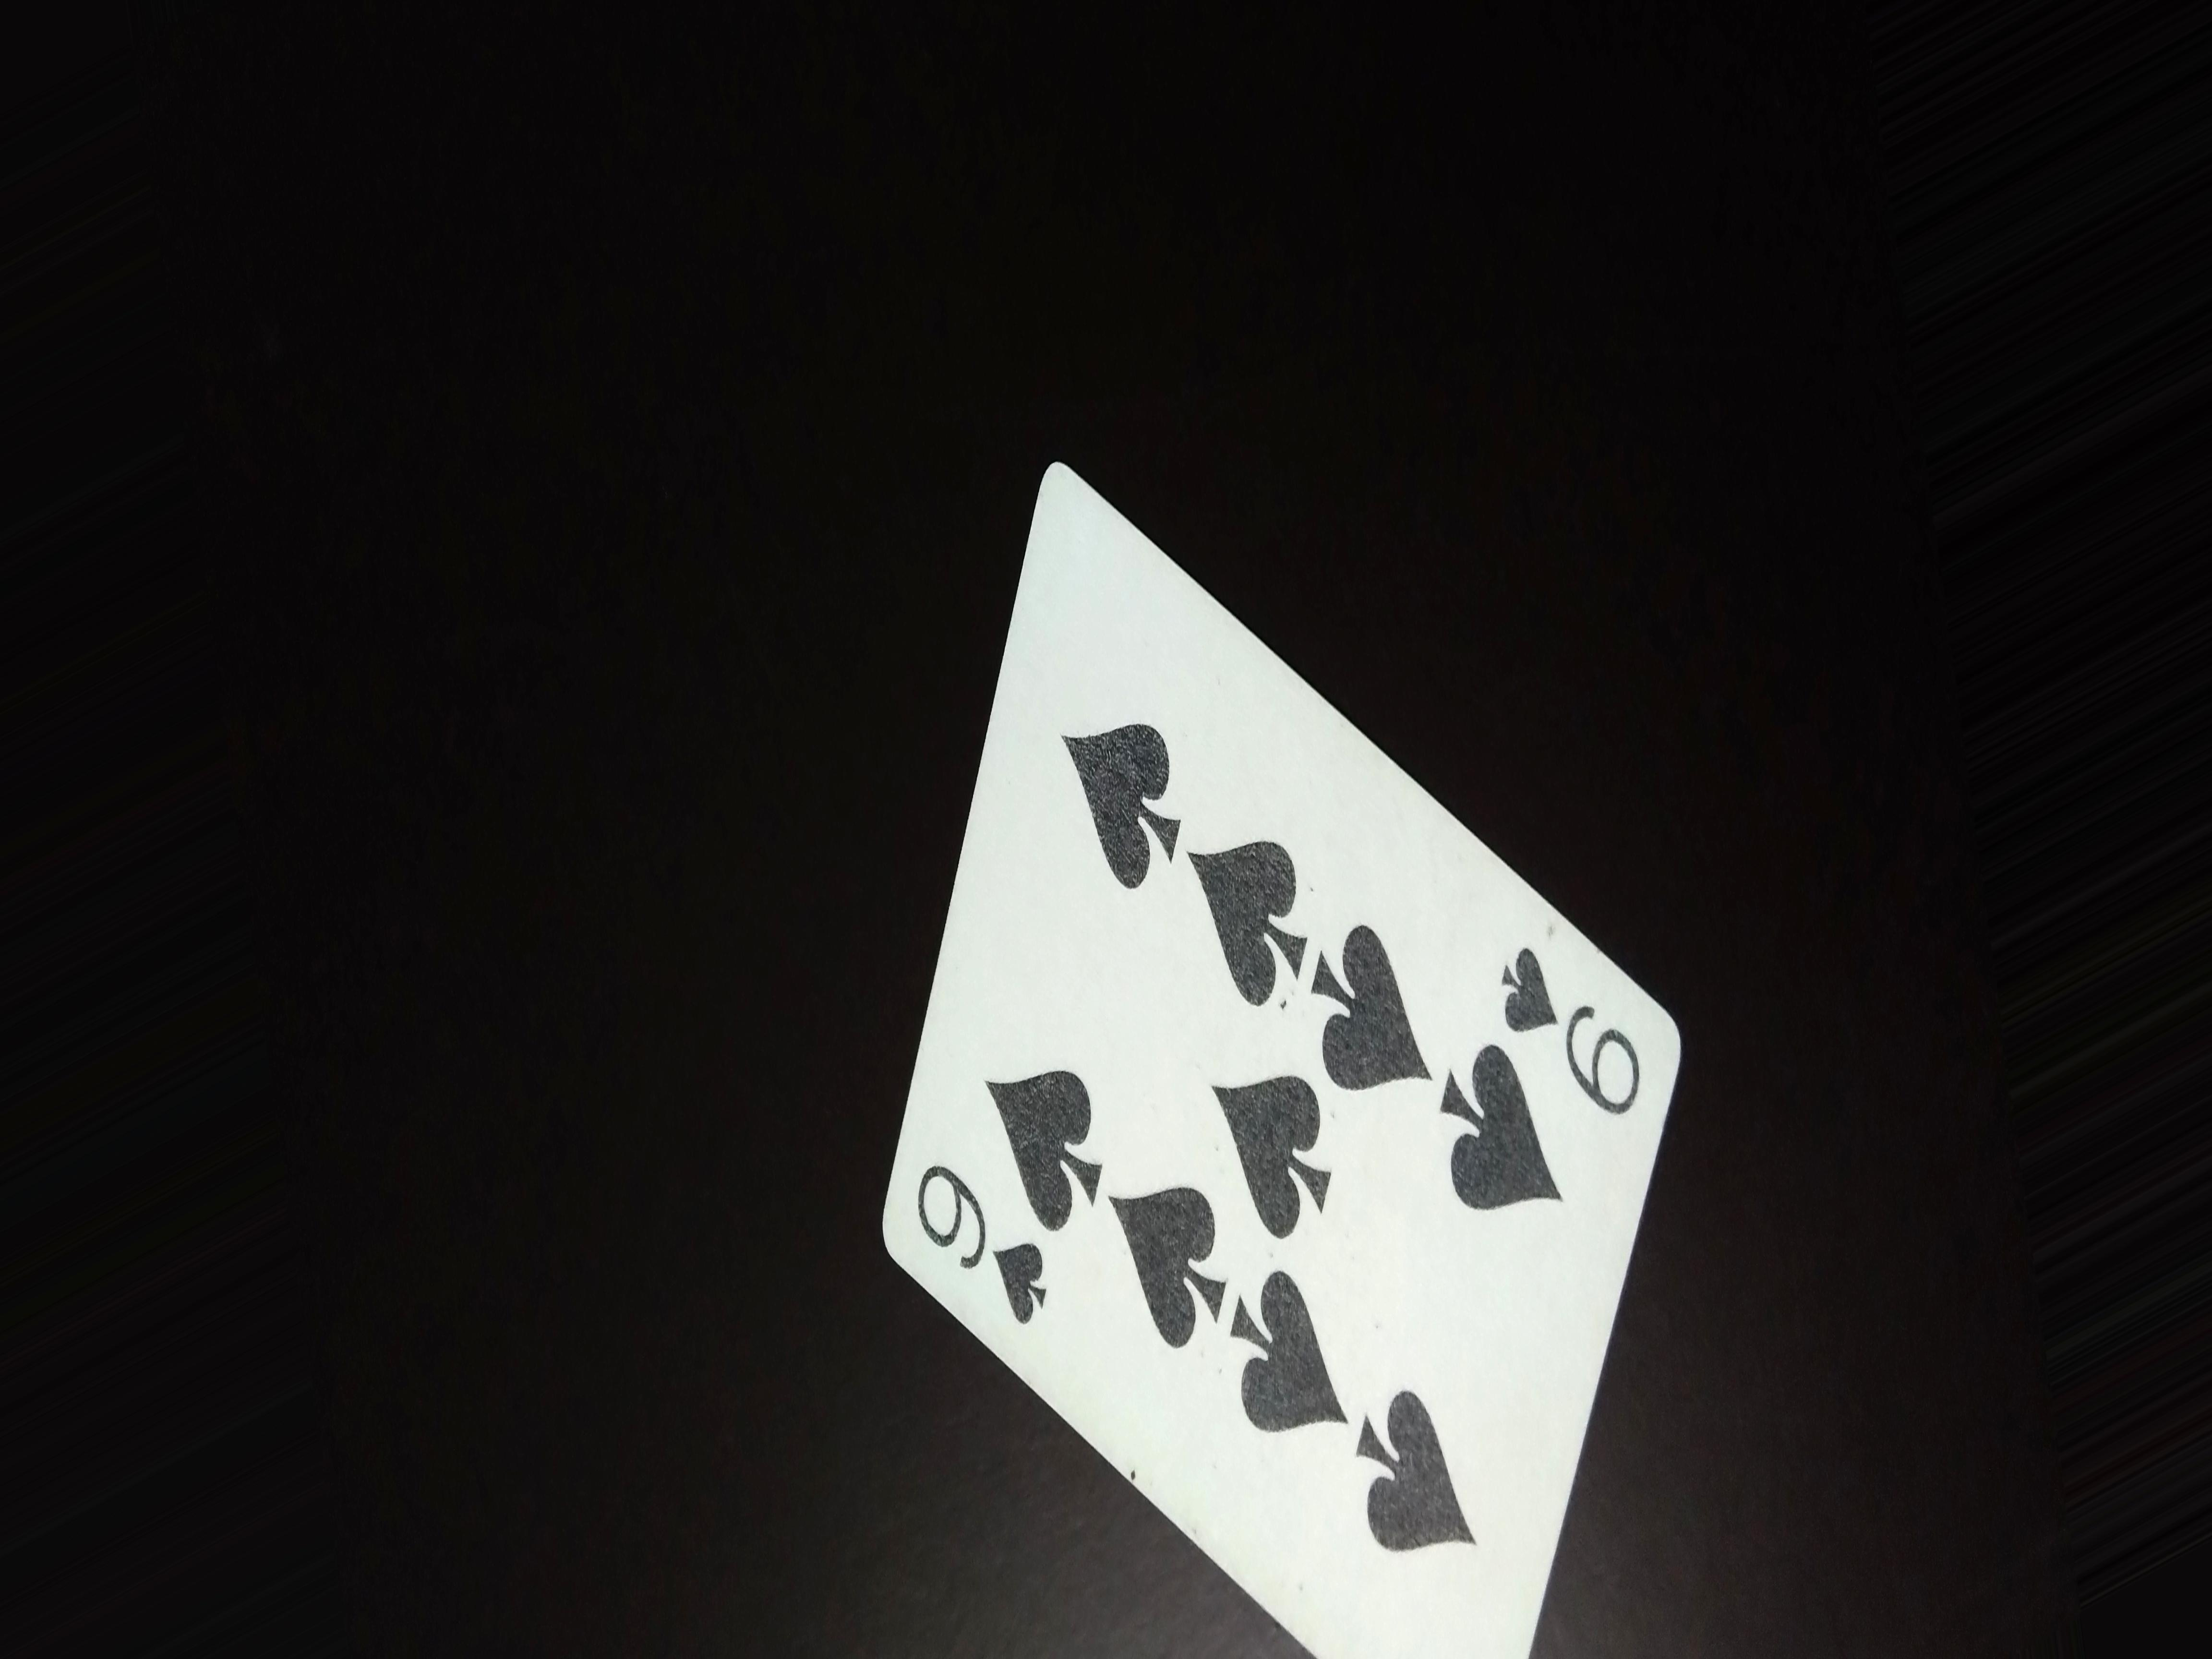9S: (1493, 911, 1653, 1103)
